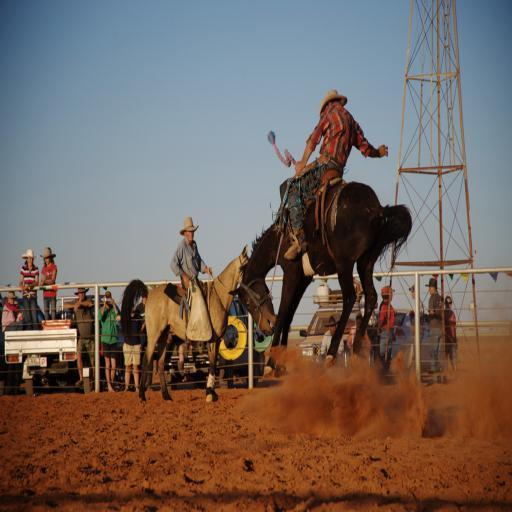horse: (228, 180, 412, 378), (120, 242, 252, 402)
